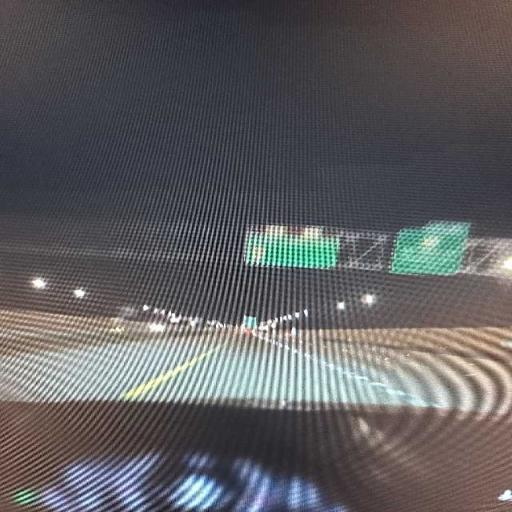lane: (0, 316, 511, 413)
